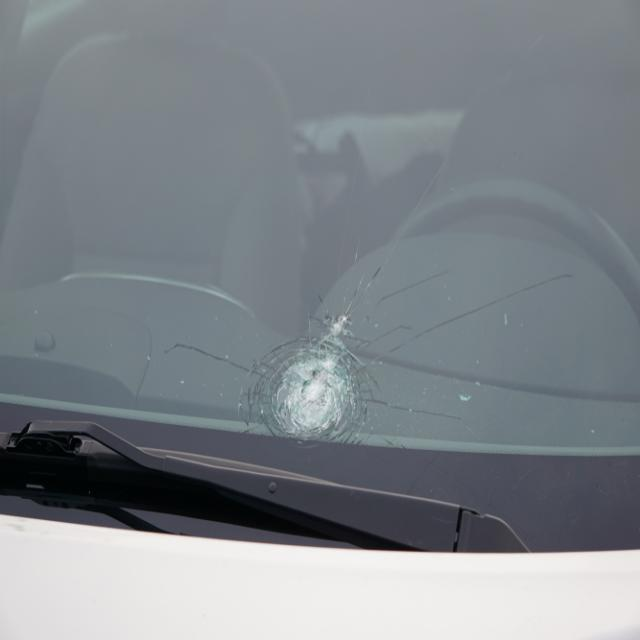Fissure: (340, 144, 586, 431), (165, 288, 382, 453)
